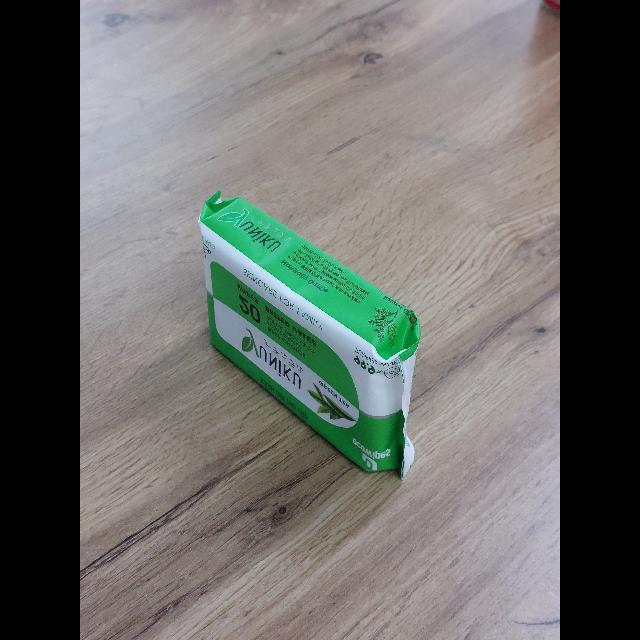khan_giay: (199, 191, 420, 477)
